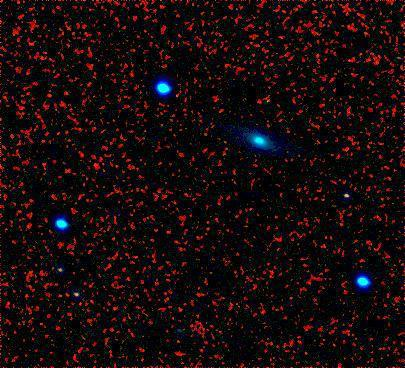star: (248, 83, 278, 113)
